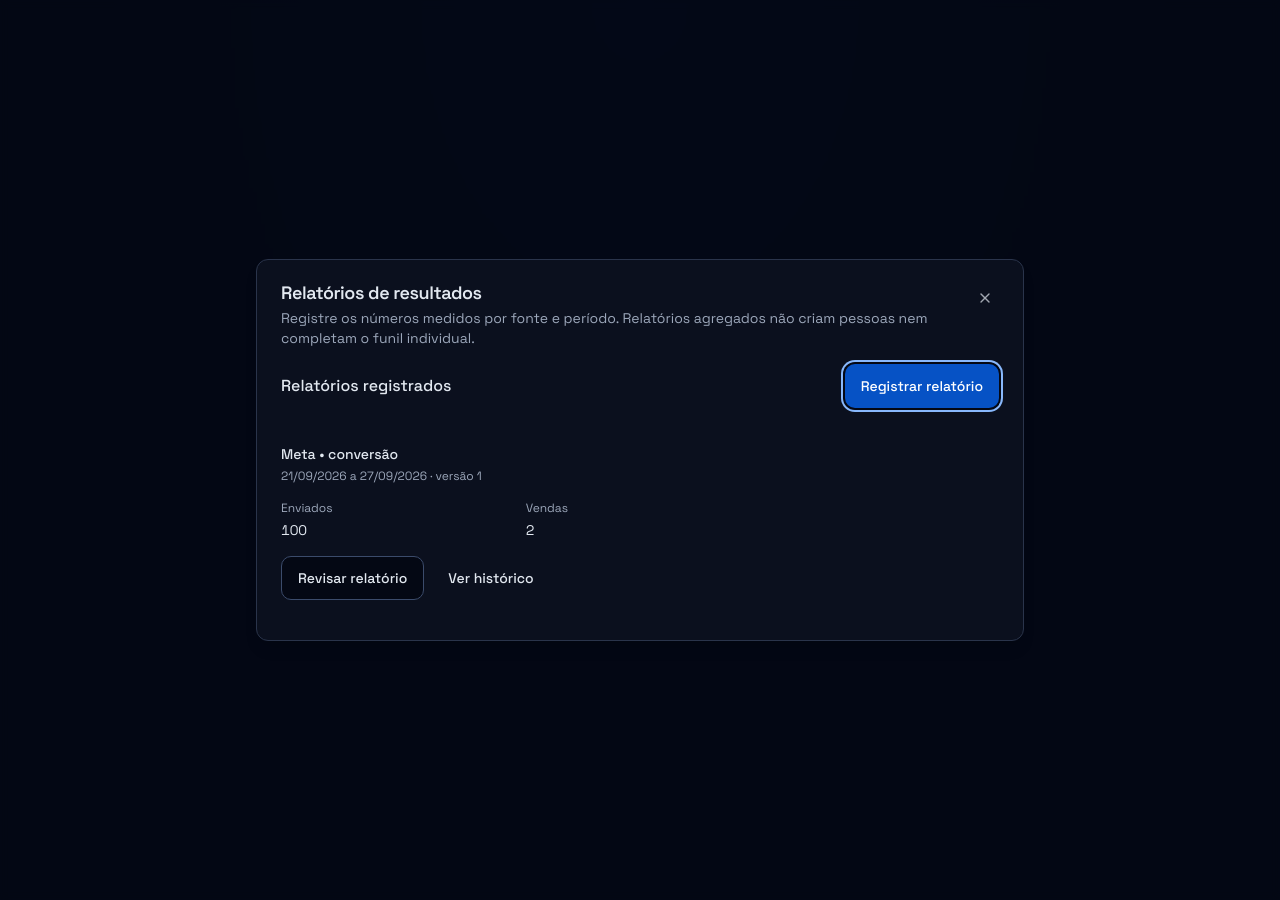
Test case: Campaign acquisition › exposes the selected calendar action and notes before confirming a report revision
Click the button "Revisar relatório" at (353, 578), box [281, 556, 424, 600]
(page scrolled)
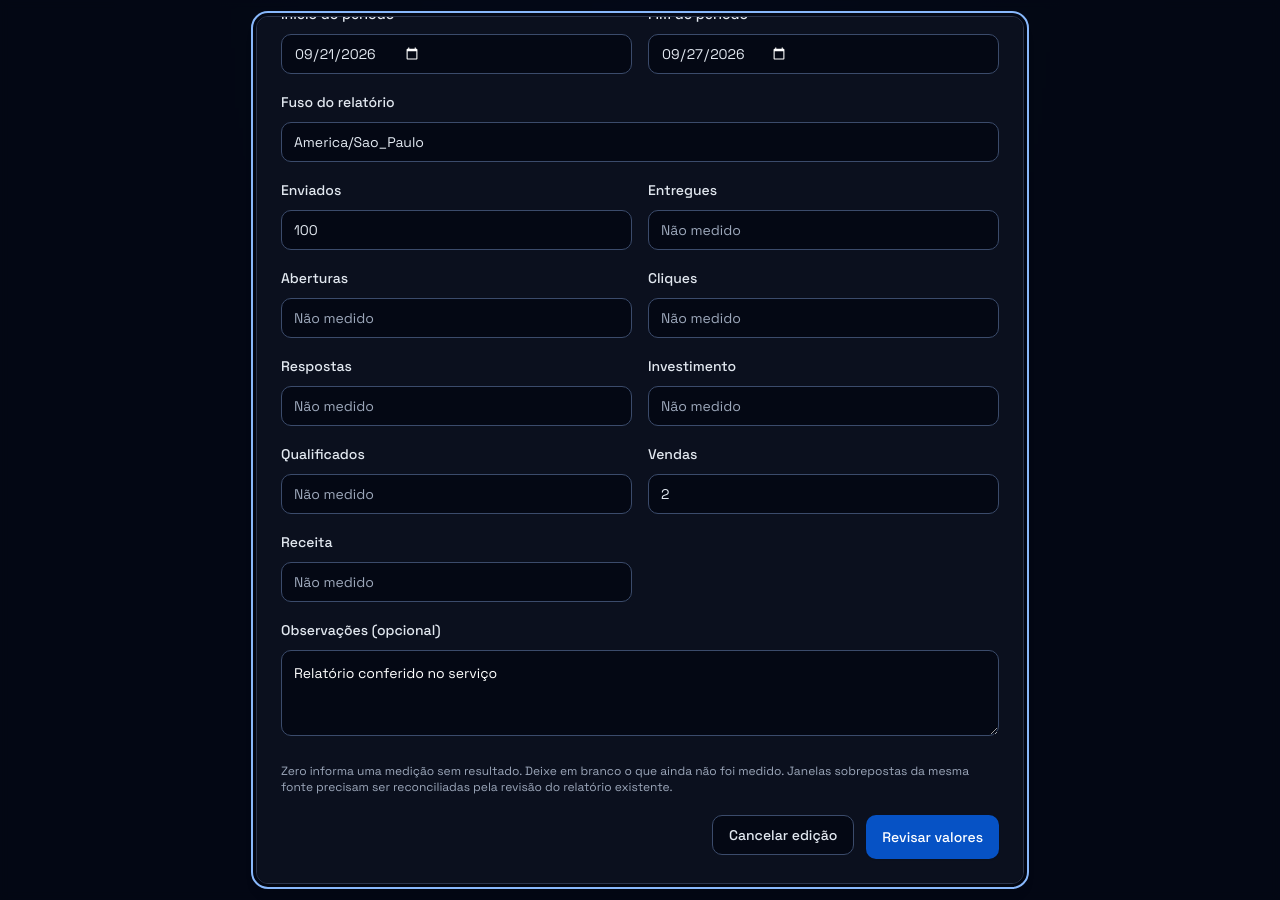
Click the button "Revisar valores" at (933, 837), box [866, 815, 999, 859]
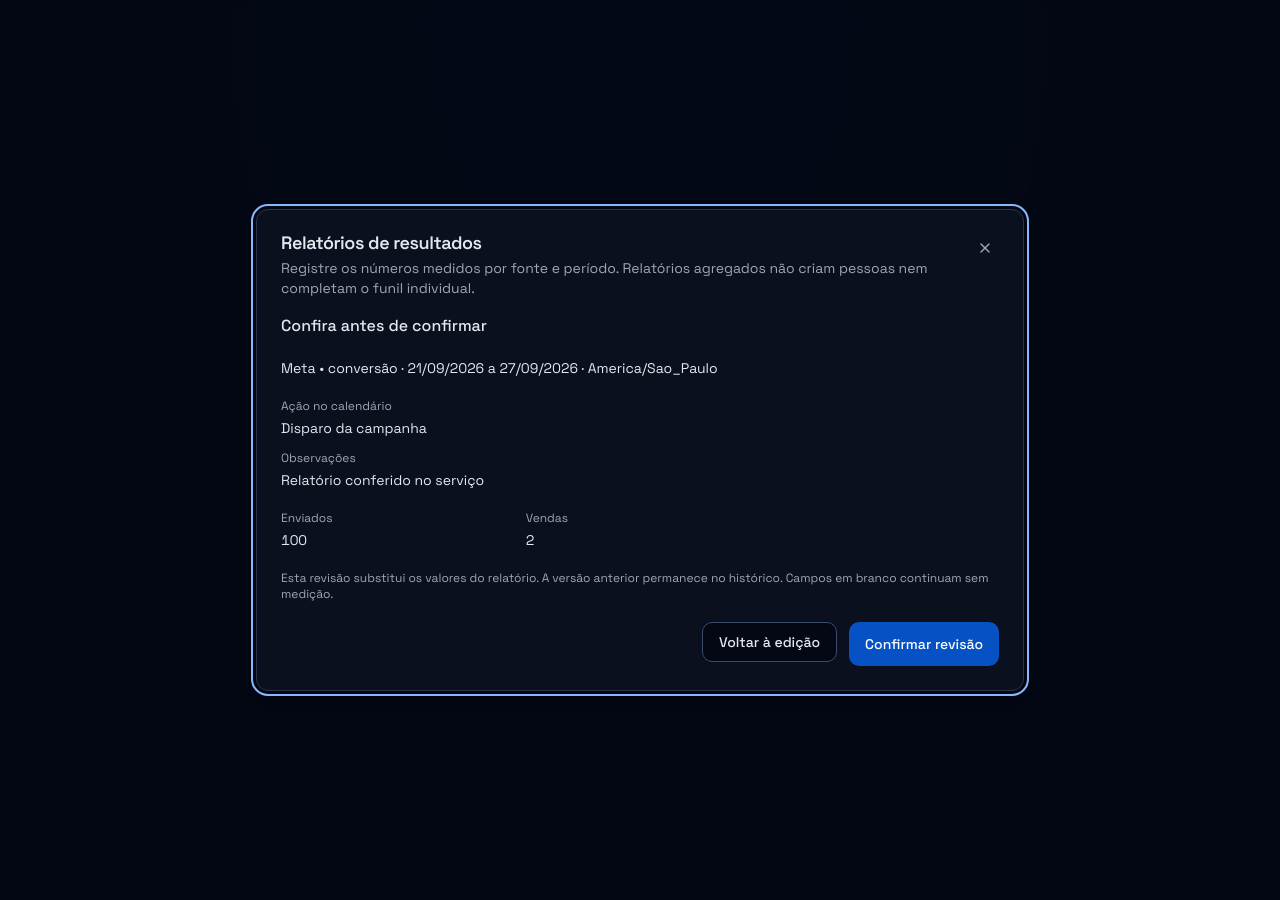
Expected: the element named "Revisão dos valores" shows "Disparo da campanha", [281, 419, 427, 437]
Expected: the element named "Revisão dos valores" shows "Relatório conferido no serviço", [281, 471, 484, 489]
